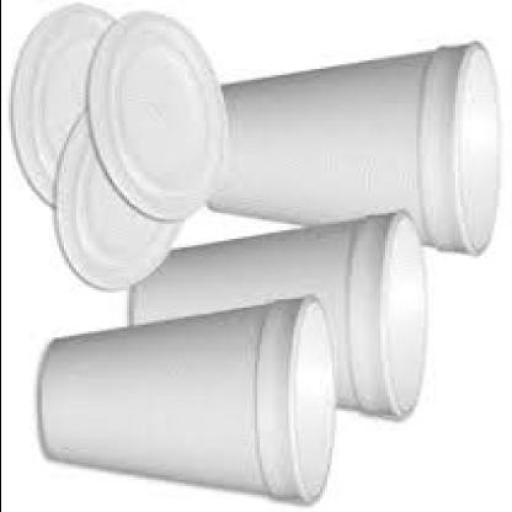paper: (210, 38, 505, 252), (130, 206, 425, 418), (40, 296, 338, 504)
plastic: (90, 8, 234, 220), (58, 101, 183, 293), (17, 2, 116, 204)
